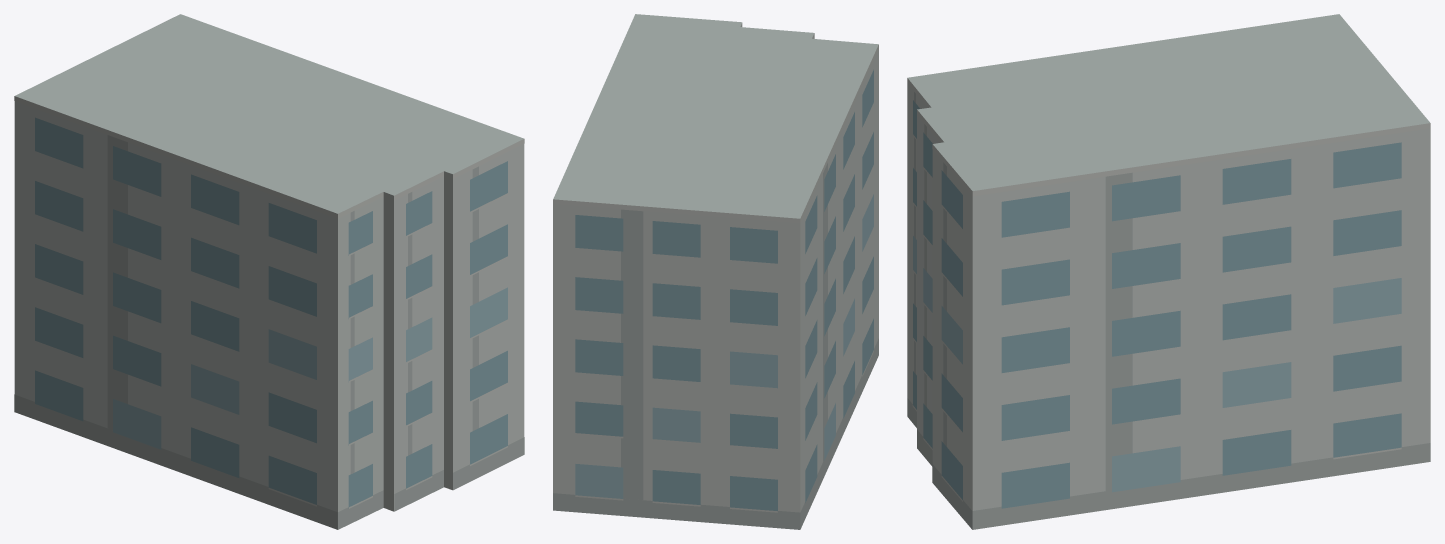
The model's file is survey-upis-32813093.glb.
The picture shows the model from 3 angles, left to right: view 1: azimuth 30°, elevation 25°; view 2: azimuth 150°, elevation 25°; view 3: azimuth 270°, elevation 25°; orthographic projection. The views are drawn at different scales.
Visible parts, largest first — view 1: survey-upis-32813093.tmp; view 2: survey-upis-32813093.tmp; view 3: survey-upis-32813093.tmp.
Boxes of the visible parts, left/top/right/bottom form: survey-upis-32813093.tmp: left=14, top=14, right=524, bottom=529; survey-upis-32813093.tmp: left=553, top=14, right=878, bottom=529; survey-upis-32813093.tmp: left=907, top=14, right=1430, bottom=529.
Bounding box in the file's own units: 17.5 × 15.59 × 21.84.
